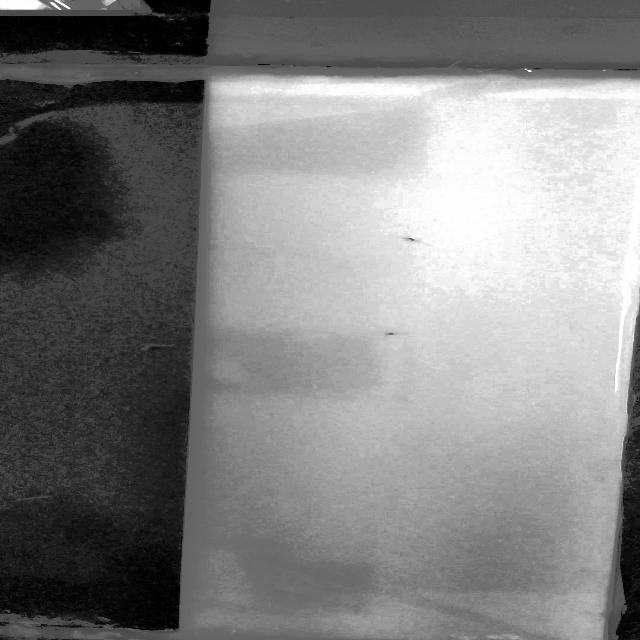shrimp: (366, 329, 412, 338), (400, 234, 423, 245)
